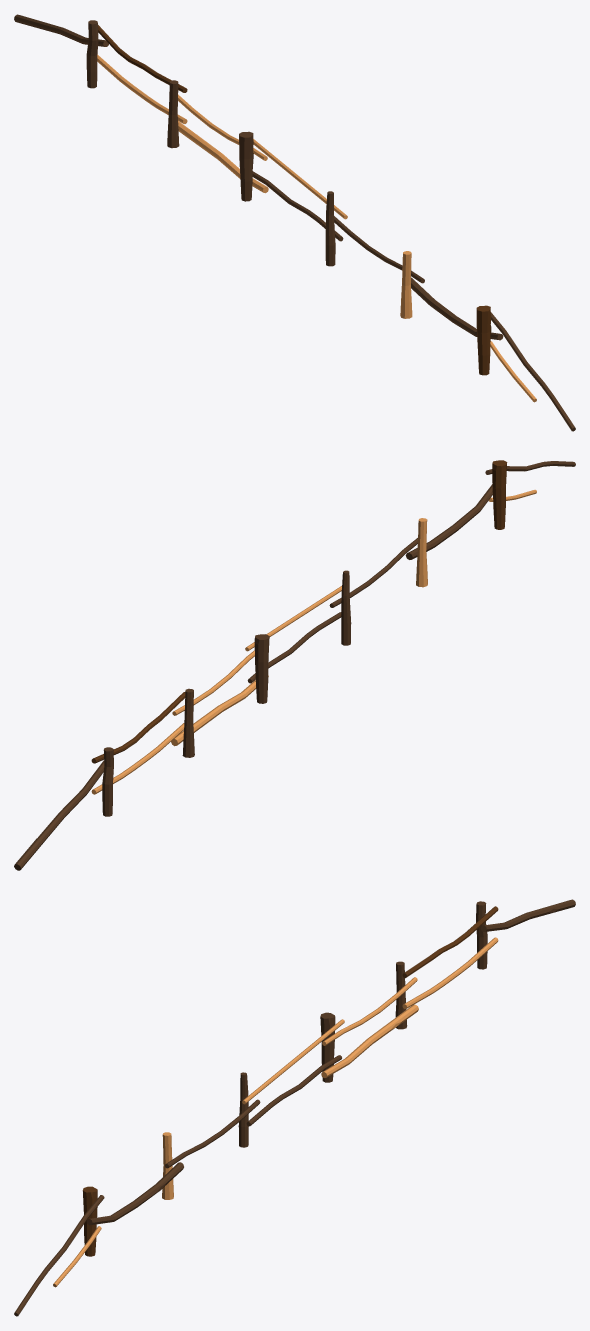
File: Fence_1.fbx
3 views of the same model, one above another, from view 1: azimuth 30°, elevation 25°; view 2: azimuth 150°, elevation 25°; view 3: azimuth 330°, elevation 25° (orthographic).
Parts seen in each view (by area): view 1: fence_8; view 2: fence_8; view 3: fence_8.
Boxes of the visible parts, box(x1,y1,x2,y2) form: fence_8: box(14, 14, 575, 431); fence_8: box(14, 460, 575, 870); fence_8: box(14, 899, 575, 1316).
Bounding box in the file's own units: 53.91 × 205 × 2877.
